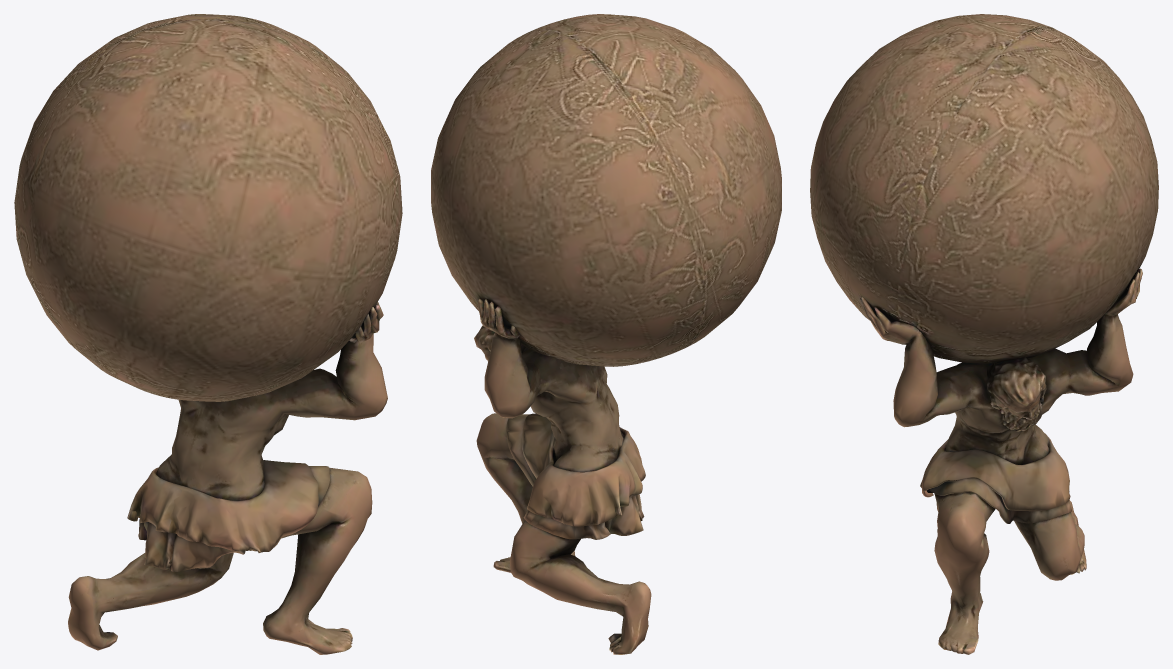
Rendered from atlas-m.glb.
3 renders of one model, left to right at view 1: azimuth 30°, elevation 25°; view 2: azimuth 150°, elevation 25°; view 3: azimuth 270°, elevation 25°, orthographic. The views are drawn at different scales.
Visible parts, largest first — view 1: Atlas; view 2: Atlas; view 3: Atlas.
Part boxes in pixels (x1=…): Atlas: x1=14, y1=14, x2=402, y2=654; Atlas: x1=431, y1=14, x2=781, y2=654; Atlas: x1=810, y1=14, x2=1158, y2=654.
Size of the model in its own units: 1.22 by 2.2 by 1.22.
2 materials, 2 textured.
